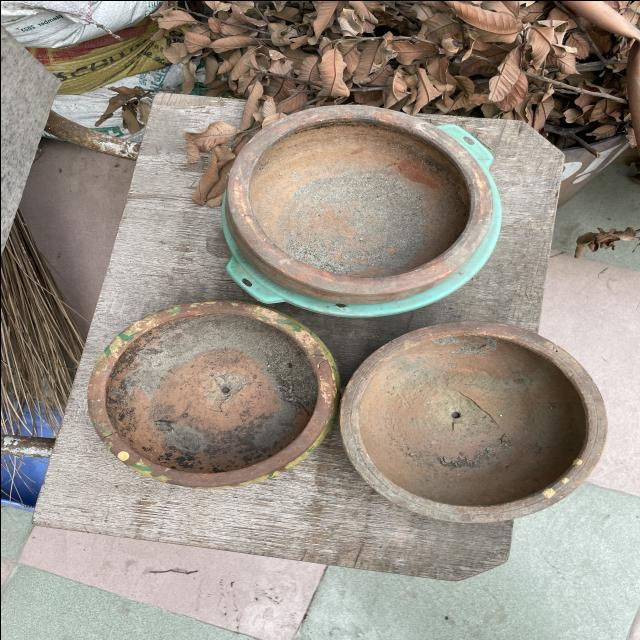Breeding Place: (212, 101, 488, 301), (348, 323, 606, 534), (81, 304, 329, 486)
